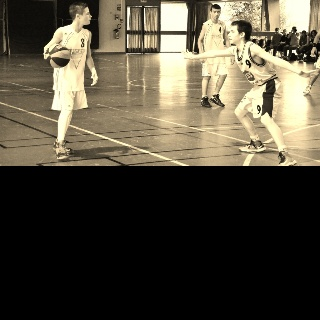without_mask: (227, 25, 240, 44), (80, 6, 92, 24), (211, 8, 220, 20)
